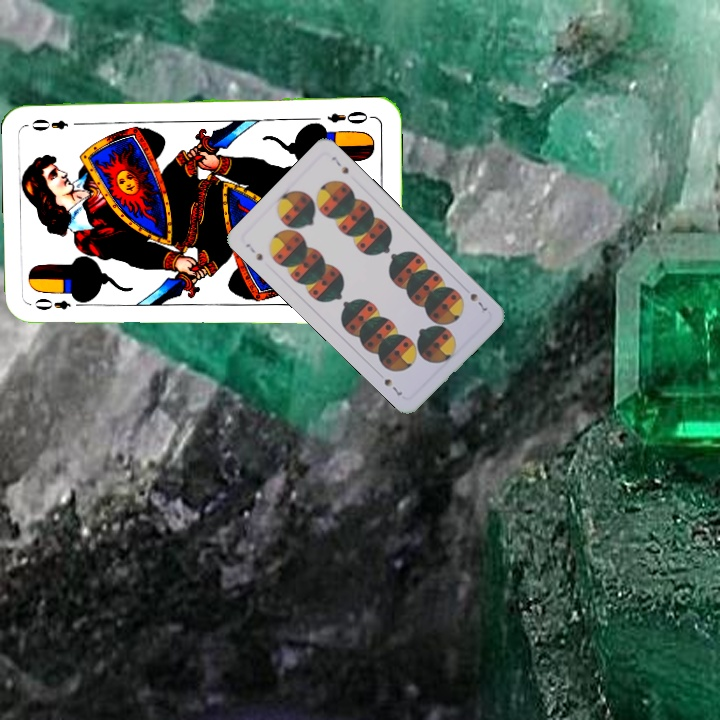EO: (31, 293, 88, 313), (323, 107, 375, 127)
S7: (241, 239, 265, 263), (466, 289, 489, 314)
